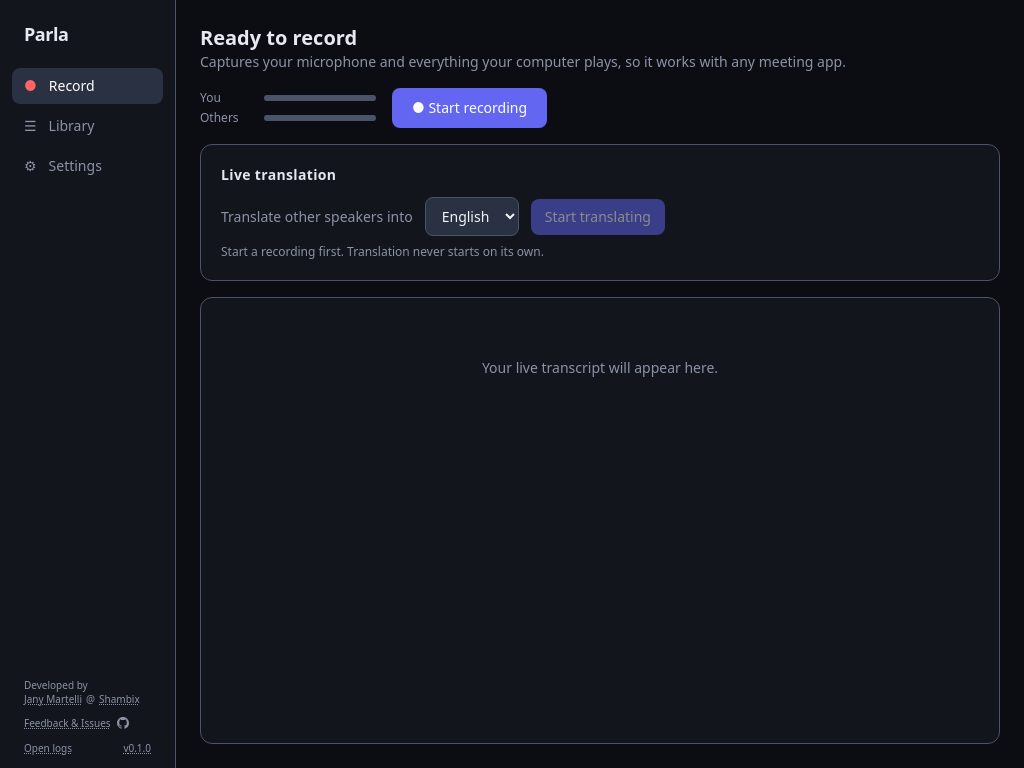
Test: recording › pause and resume keep the same recording
The image size is (1024, 768).
Later steps or results of the test are not shown.
Expected: the navigation bar named "main" is shown, [0,0,176,767]
Click the button "● Start recording".
click(470, 108)  # box [392,88,547,128]
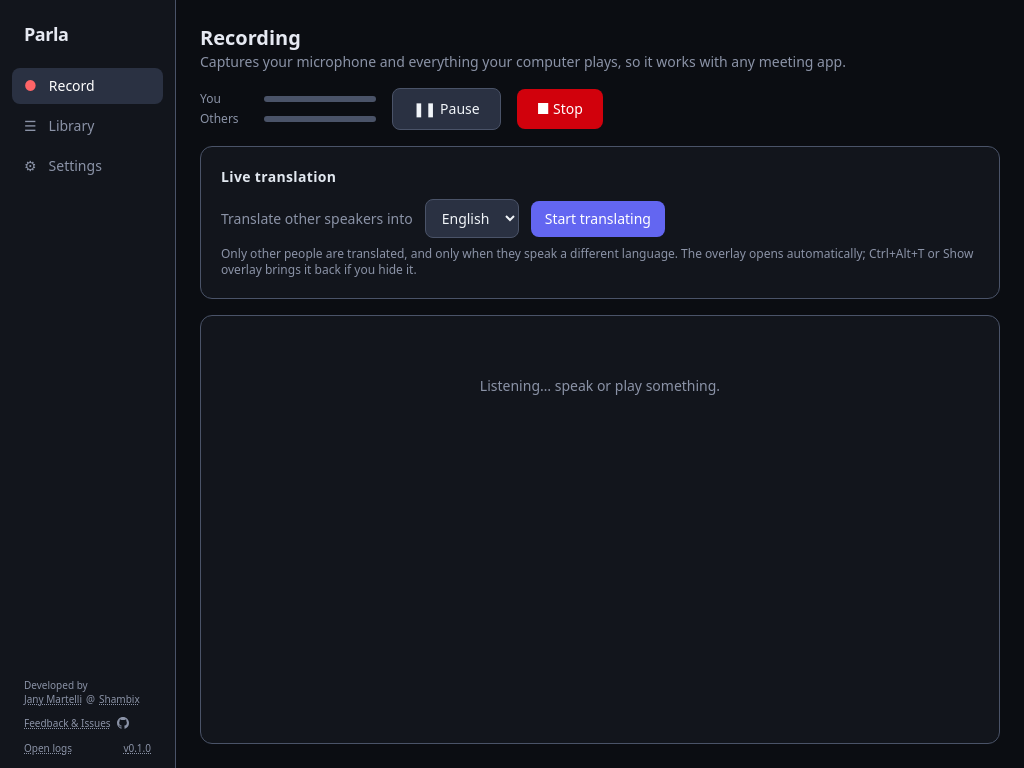
Click the button "❚❚ Pause".
click(446, 109)  # box [392,88,501,130]
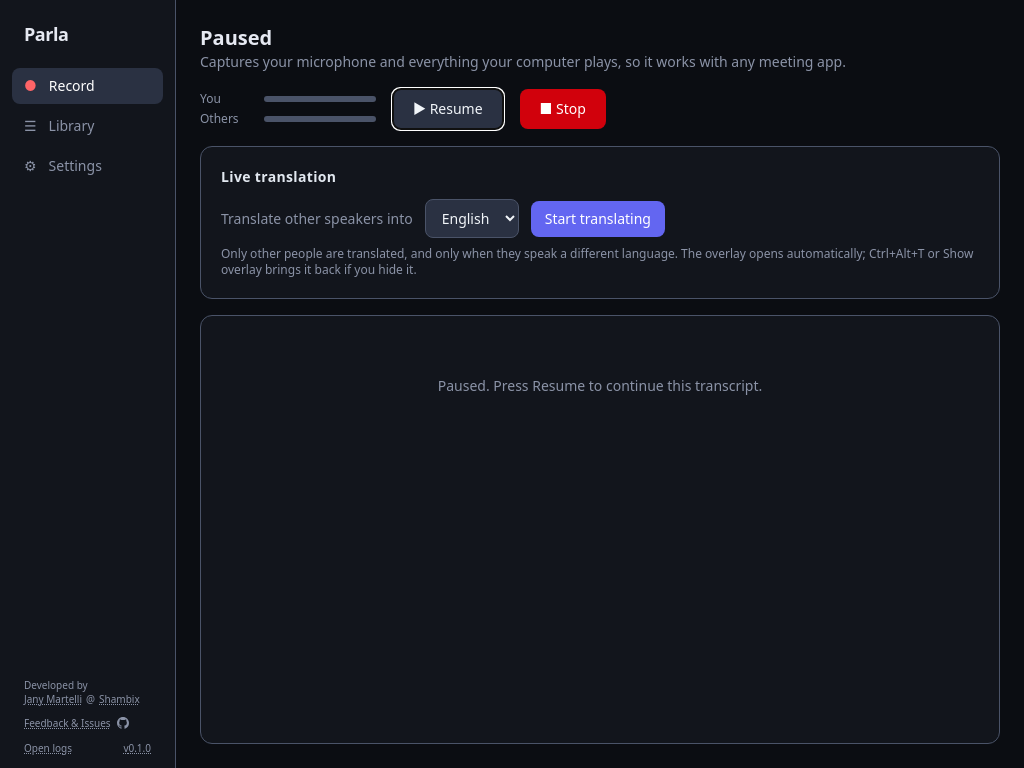
Result: the heading "Paused" is shown at [200,24,272,51]
